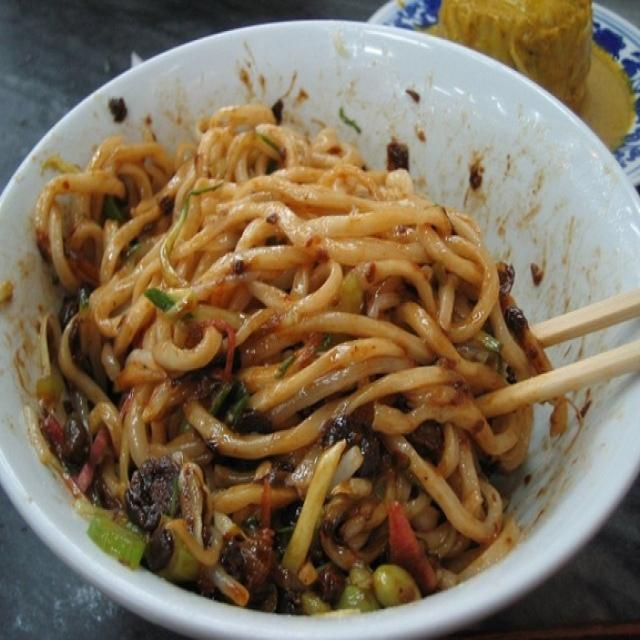面条主食: (13, 47, 616, 621)
